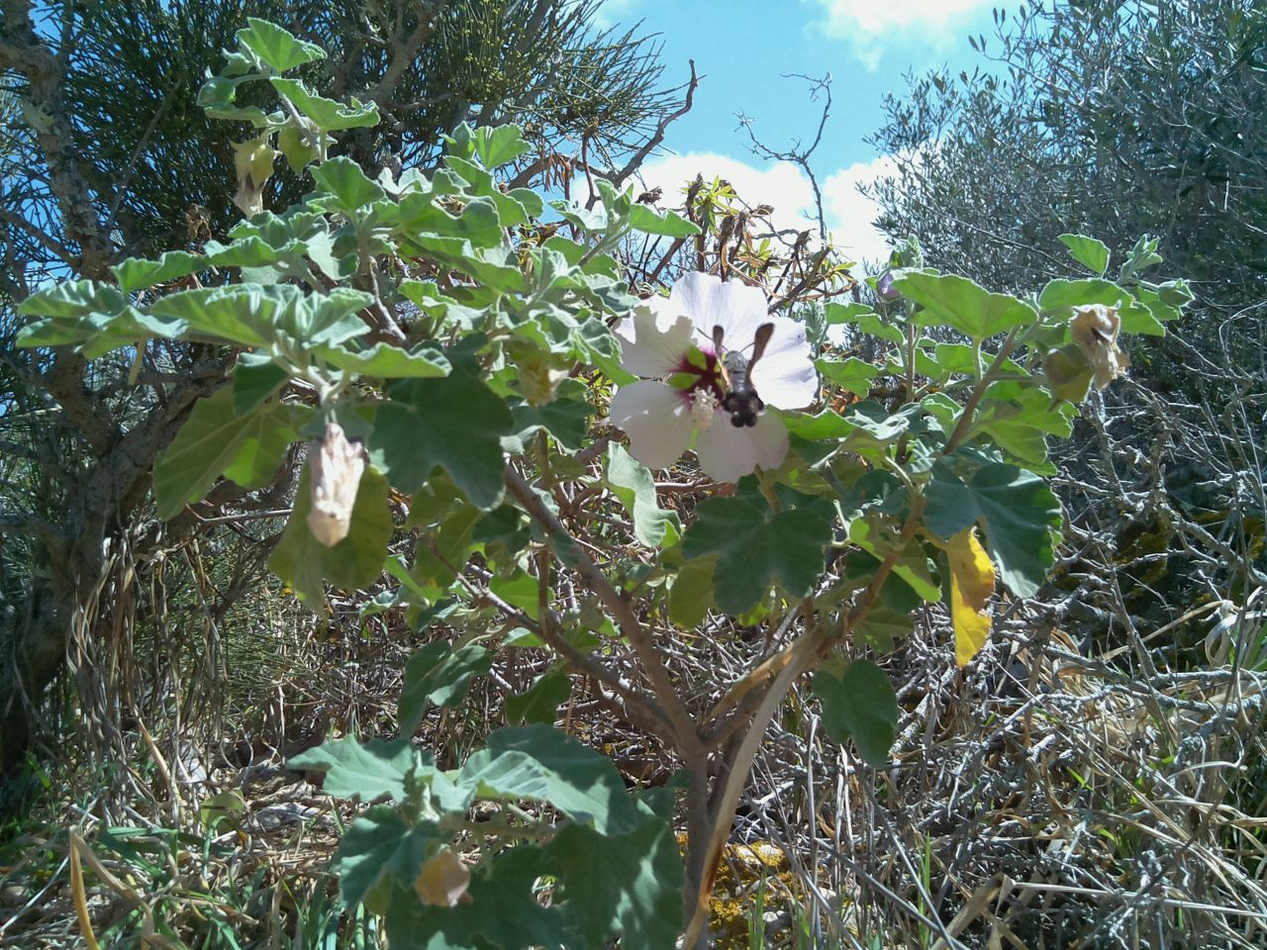Butterfly: (670, 317, 802, 442)
